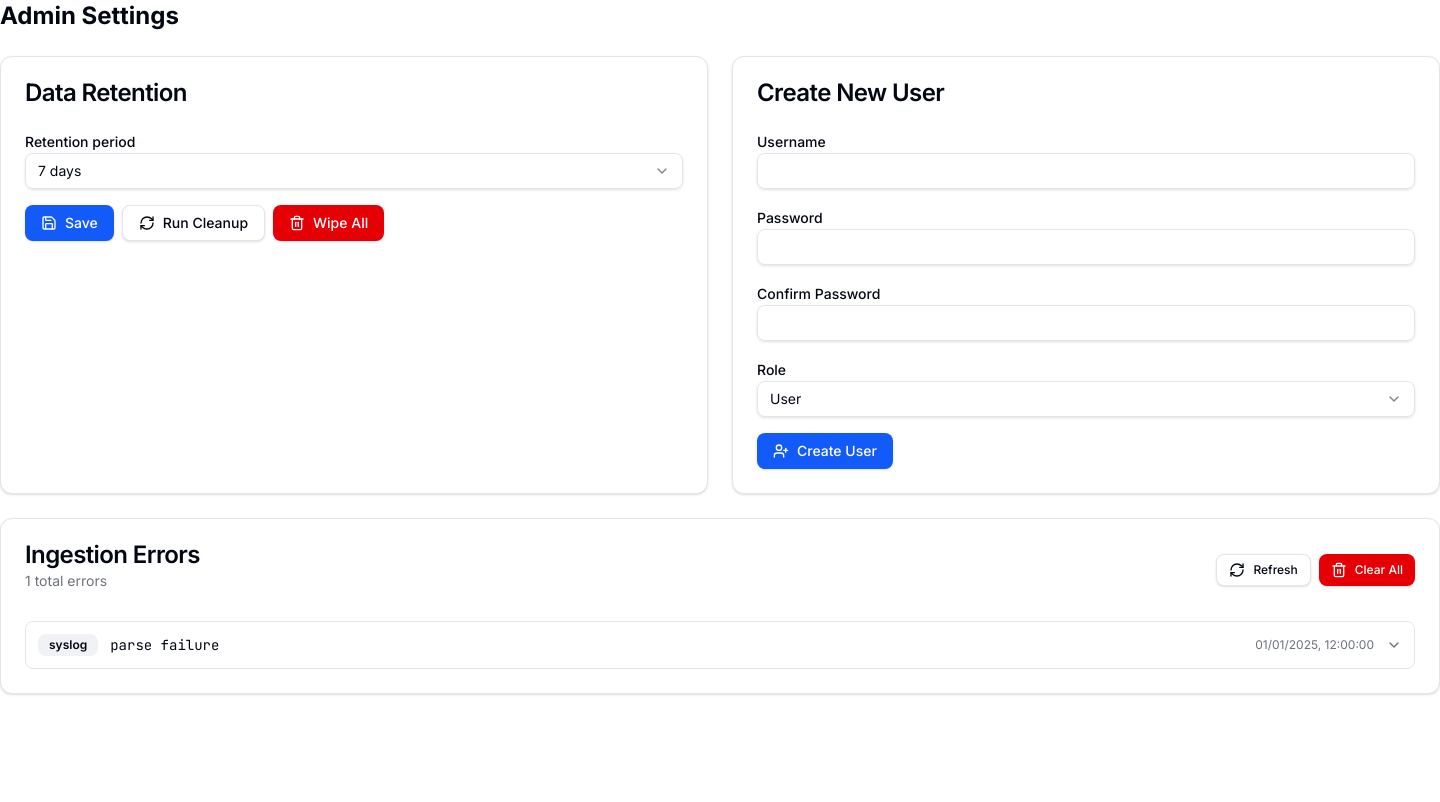
Scenario: AdminSettings - extended coverage › renders error detail with JSON raw_input
This screenshot has width=1440, height=802.
Click the text "parse failure".
click(165, 645)  # box [110,636,219,654]
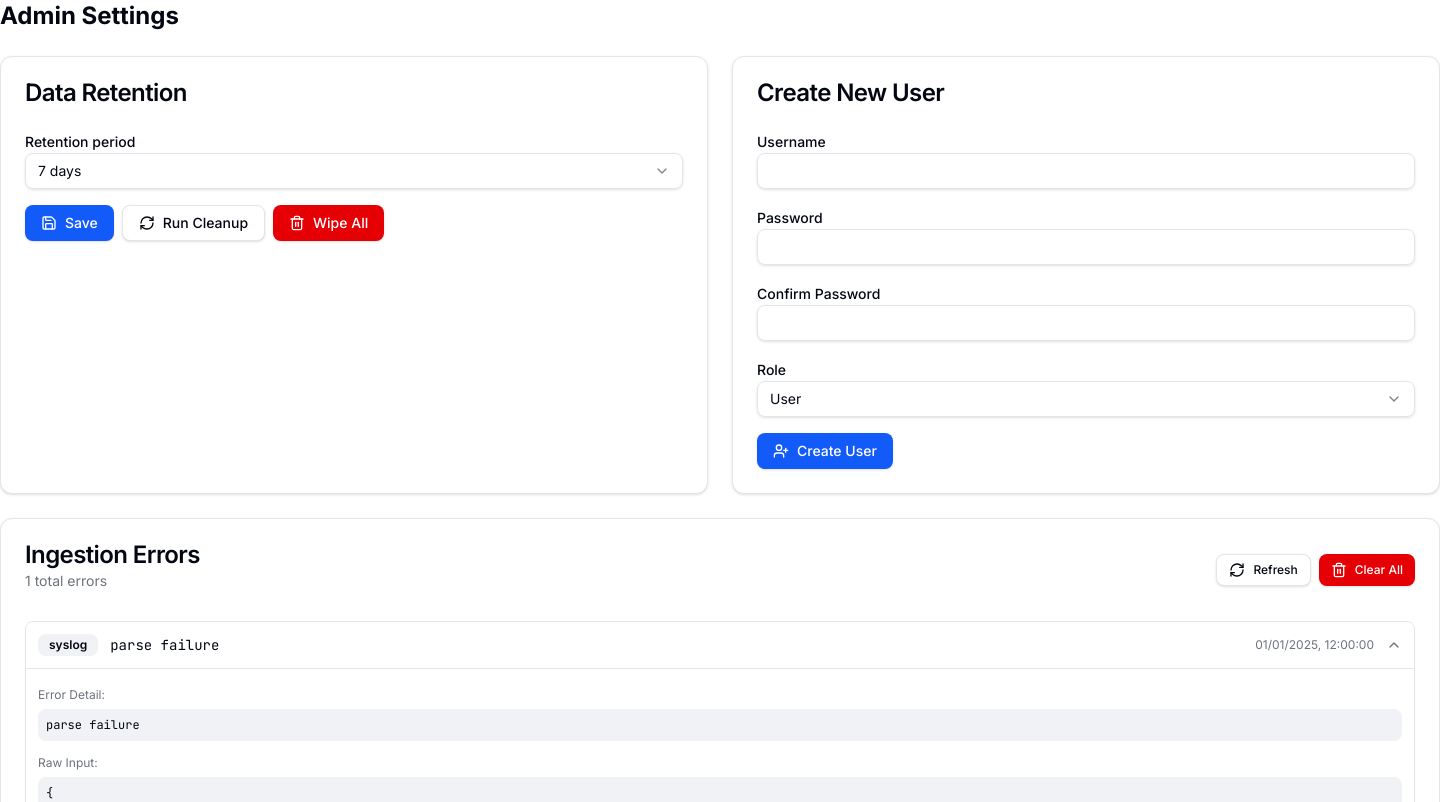
Result: the text "Raw Input:" is shown at [38,755,98,770]
